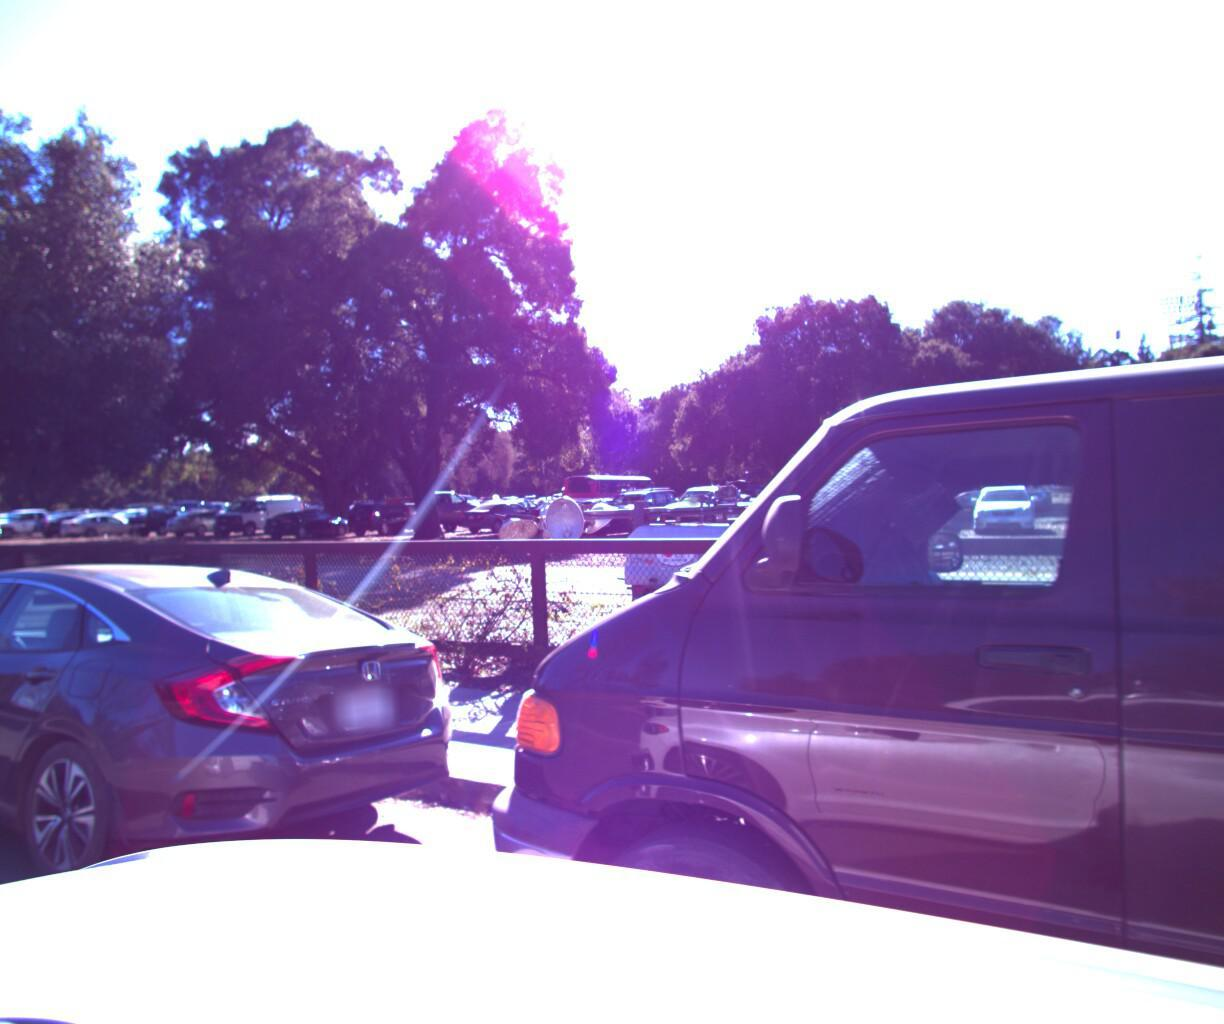car: (389, 0, 1224, 1024), (0, 548, 505, 956)
other_vehicle: (465, 450, 956, 679)
